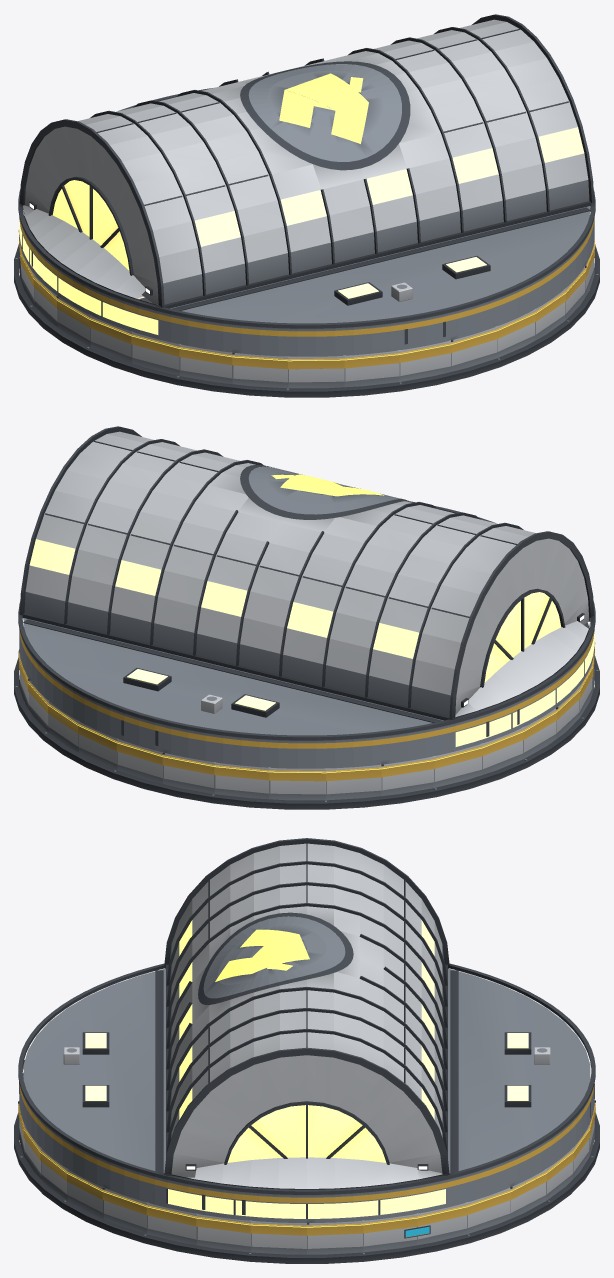
File: residence_tube_l.glb
3 views of the same model, one above another, from view 1: azimuth 30°, elevation 25°; view 2: azimuth 150°, elevation 25°; view 3: azimuth 270°, elevation 25° (orthographic).
Parts seen in each view (by area): view 1: Roof, Base, Wall_21, Wall_20, Wall_22, Wall_19, Wall_23, Upper_21, Upper_20, Upper_22, Wall_18, Upper_19 (+16 smaller); view 2: Roof, Base, Wall_10, Wall_11, Wall_09, Wall_12, Wall_08, Upper_10, Upper_11, Upper_09, Wall_13, Upper_12 (+16 smaller); view 3: Roof, Base, Wall_00, Wall_31, Wall_30, Wall_01, Wall_29, Upper_00, Upper_31, Upper_01, Wall_02, Upper_30 (+16 smaller).
Boxes of the visible parts, box(x1,y1,x2,y2) form: Roof: box(18, 14, 595, 328); Base: box(14, 244, 599, 397); Wall_21: box(288, 355, 344, 388); Wall_20: box(232, 352, 288, 388); Wall_22: box(344, 350, 399, 387); Wall_19: box(179, 344, 232, 384); Wall_23: box(399, 340, 451, 381); Upper_21: box(288, 327, 344, 356); Upper_20: box(232, 324, 288, 356); Upper_22: box(344, 322, 399, 355); Wall_18: box(131, 331, 179, 375); Upper_19: box(179, 316, 232, 352); Roof: box(18, 426, 595, 740); Base: box(14, 656, 599, 809); Wall_10: box(269, 767, 325, 800); Wall_11: box(325, 764, 381, 800); Wall_09: box(214, 762, 269, 799); Wall_12: box(381, 756, 434, 796); Wall_08: box(162, 752, 214, 793); Upper_10: box(269, 739, 325, 768); Upper_11: box(325, 736, 381, 768); Upper_09: box(214, 734, 269, 767); Wall_13: box(434, 743, 482, 787); Upper_12: box(381, 728, 434, 764); Roof: box(18, 838, 595, 1194); Base: box(14, 1113, 599, 1263); Wall_00: box(307, 1220, 363, 1254); Wall_31: box(250, 1220, 306, 1254); Wall_30: box(196, 1213, 250, 1252); Wall_01: box(363, 1213, 417, 1252); Wall_29: box(146, 1202, 196, 1245); Upper_00: box(307, 1192, 362, 1222); Upper_31: box(251, 1192, 306, 1222); Upper_01: box(363, 1186, 416, 1220); Wall_02: box(417, 1202, 467, 1245); Upper_30: box(197, 1186, 250, 1220).
Bounding box in the file's own units: 21.75 × 8.06 × 21.75.
